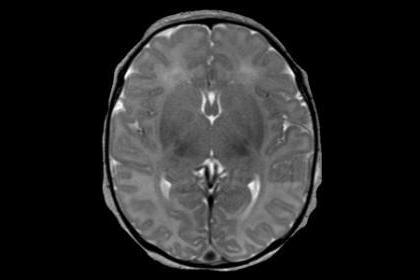Normal_Brain: (48, 6, 373, 280)
